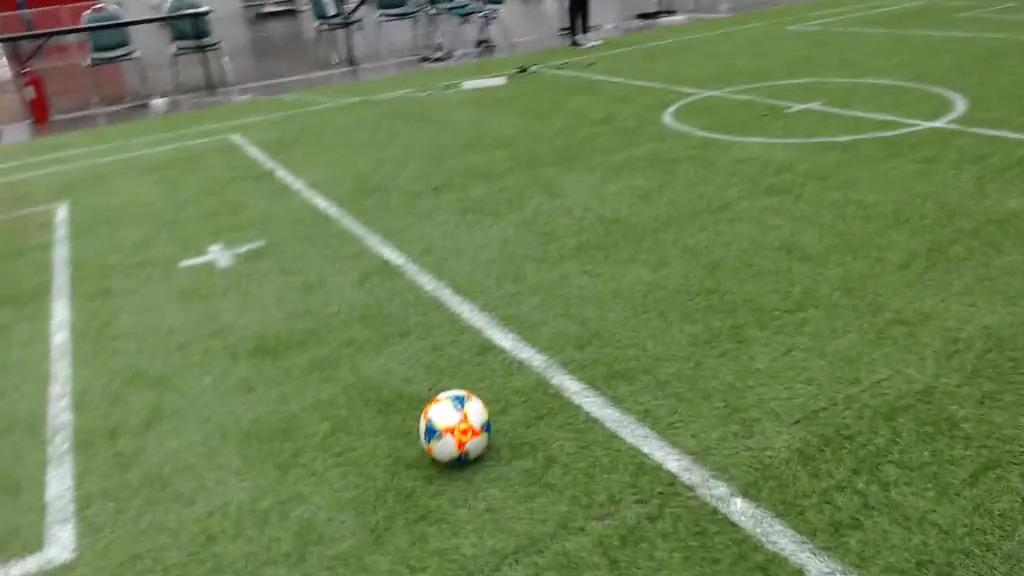ball: (419, 388, 490, 462)
